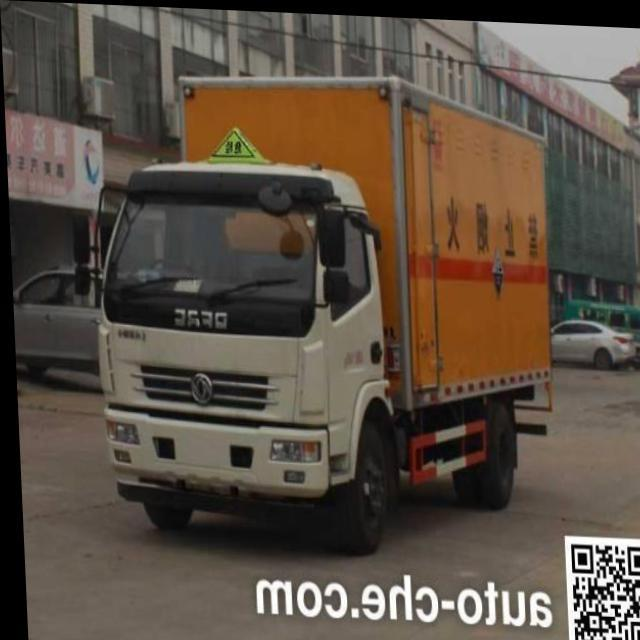covered: (64, 73, 556, 556)
